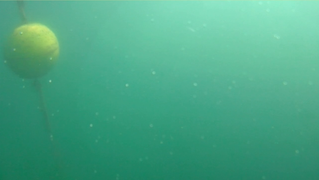buoy: (2, 22, 60, 79)
